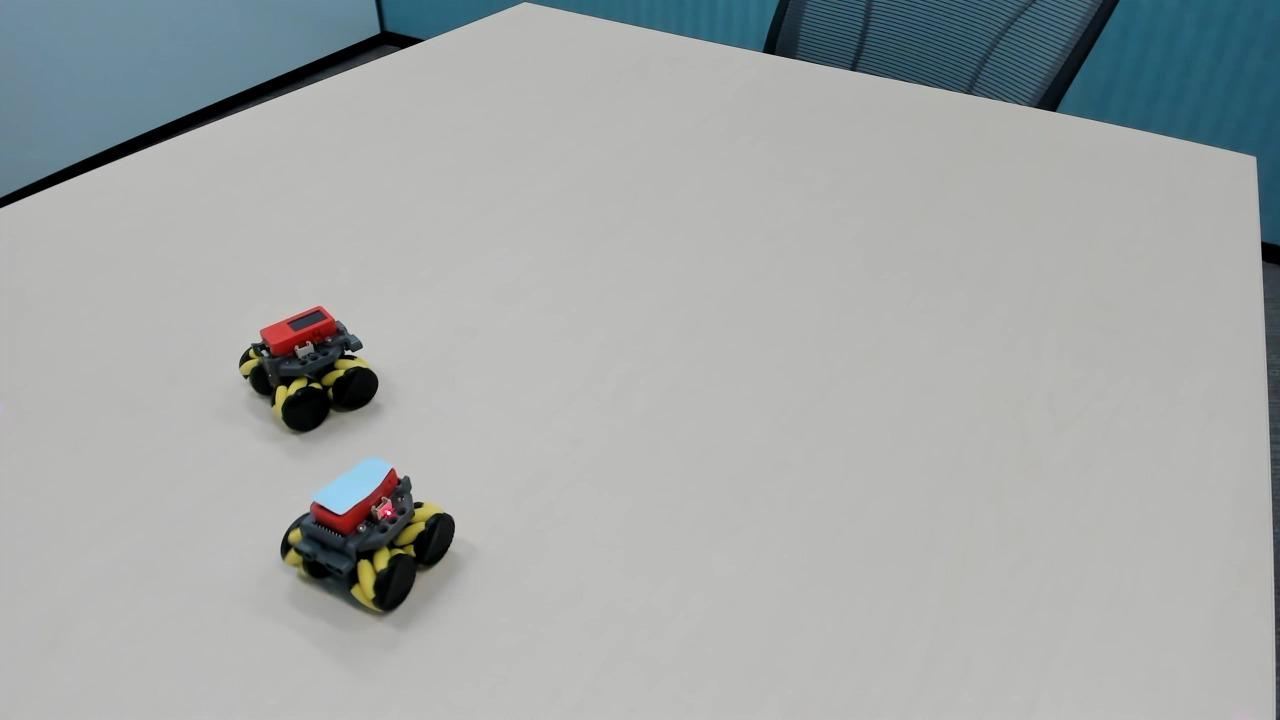B-Robot: (256, 449, 471, 628)
R-Robot: (225, 295, 388, 440)
